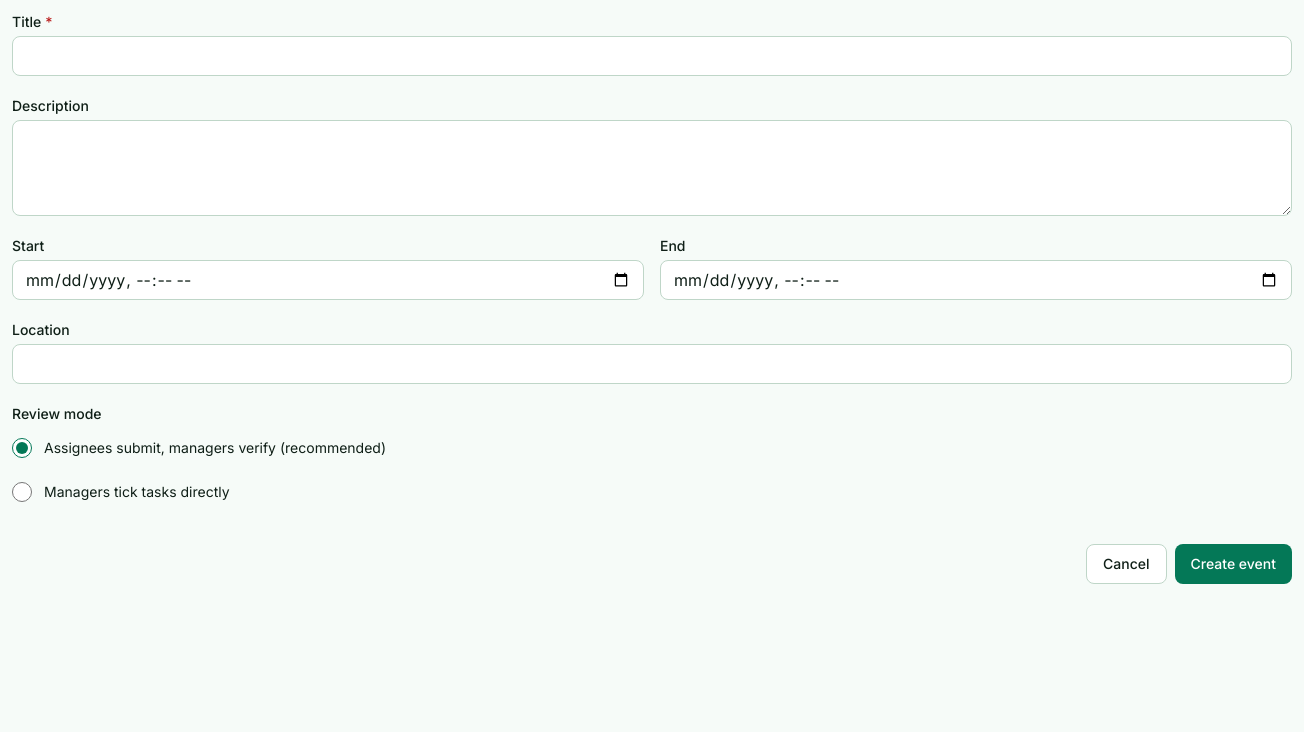
Test case: NewEventForm › shows a server error without navigating
This screenshot has width=1304, height=732.
In the field labelled "Title*": (652, 56) [12, 36, 1292, 76], type "Fest"
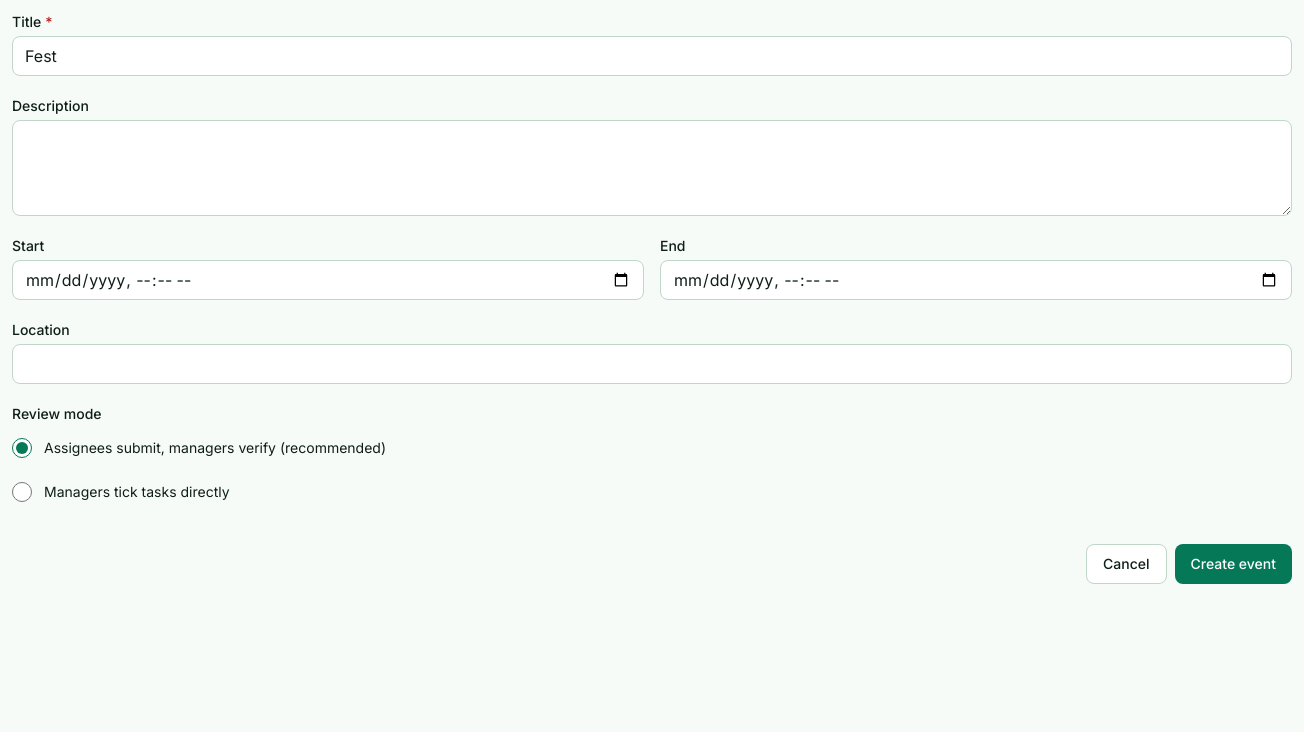
Click the button "Create event": click(1233, 564) [1174, 544, 1292, 584]
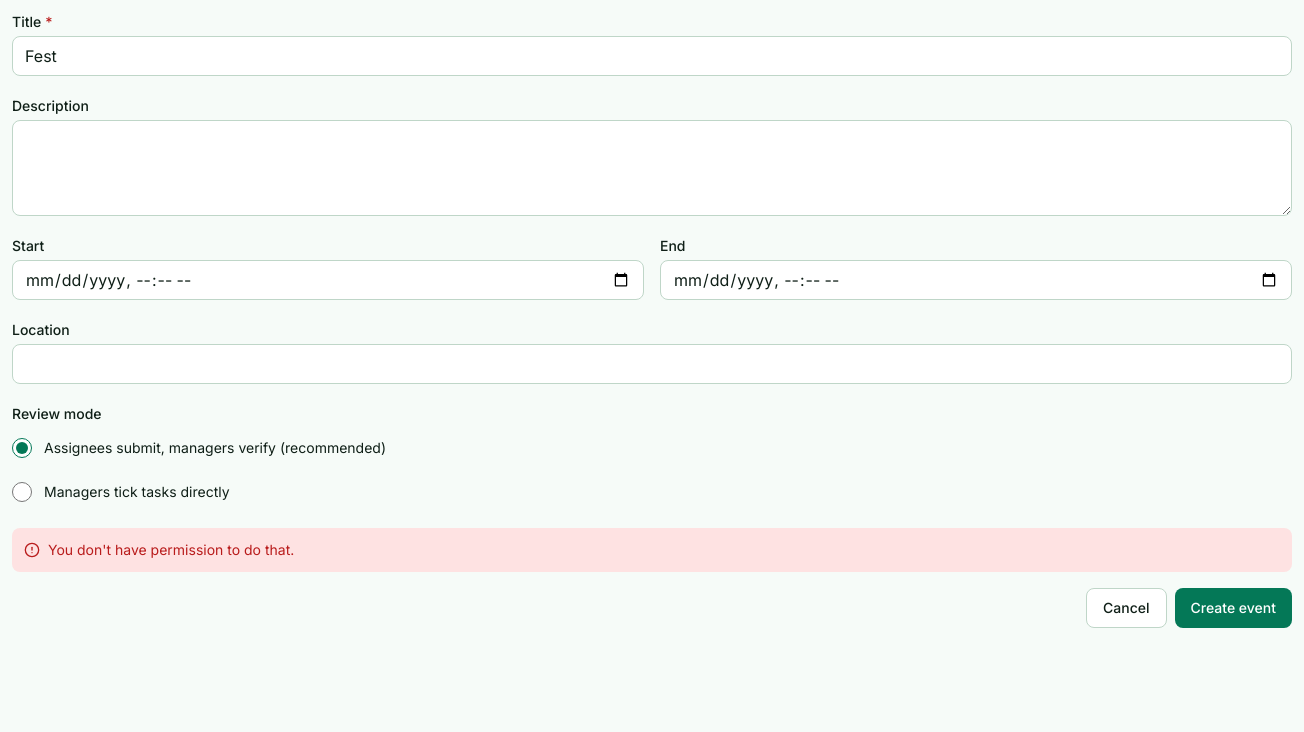
Check: the message reads "You don't have permission to do that.", box [48, 541, 294, 558]
